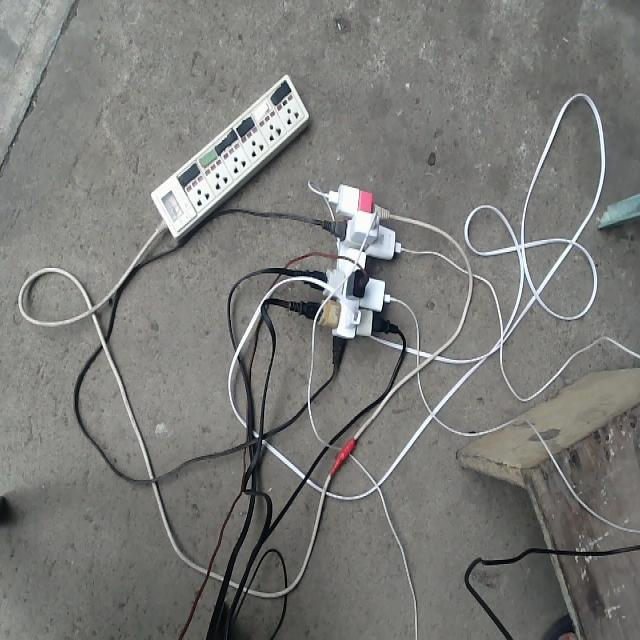-: (312, 176, 401, 359)
